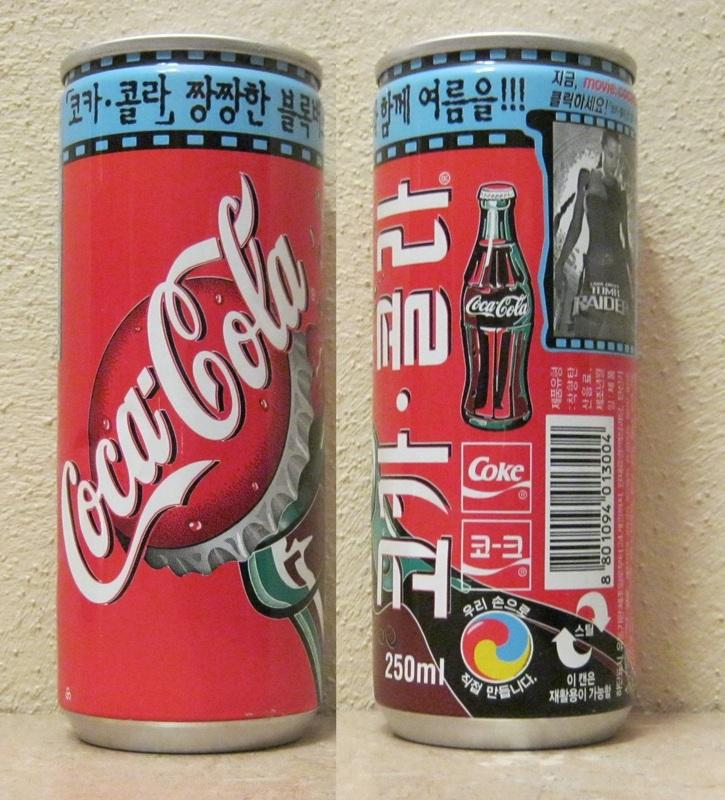can: (355, 31, 648, 764), (51, 29, 338, 760)
